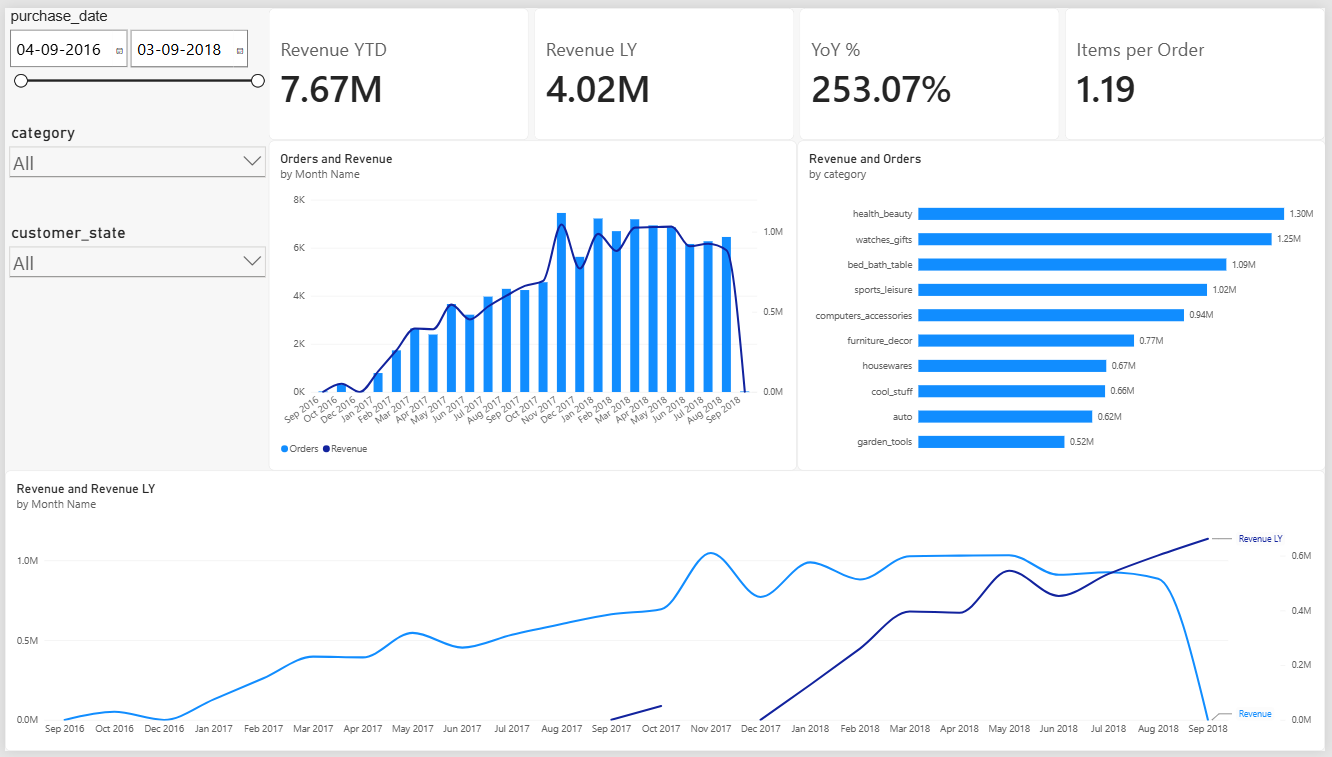

Layout of this report page (visuals, bound fields, positions):
{"tool":"powerbi","page":{"name":"Sales & Revenue","canvas":[1920,1080],"ordinal":1},"visuals":[{"type":"lineChart","fields":{"Category":["DimDate.Month Name"],"Y":["DimDate.Revenue"],"Y2":["DimDate.Revenue LY"]},"box":[0,672,1920,408],"z":0},{"type":"barChart","fields":{"Category":["public bi_fact_sales.category"],"Y":["DimDate.Revenue"]},"box":[1152,192,768,480],"z":1000},{"type":"lineClusteredColumnComboChart","fields":{"Category":["DimDate.Month Name"],"Y":["DimDate.Orders"],"Y2":["DimDate.Revenue"]},"box":[384,192,768,480],"z":2000},{"type":"slicer","fields":{"Values":["public bi_fact_sales.purchase_date"]},"box":[0,0,384,192],"z":3000},{"type":"slicer","fields":{"Values":["public bi_fact_sales.category"]},"box":[0,168,384,192],"z":4000},{"type":"slicer","fields":{"Values":["public bi_fact_sales.customer_state"]},"box":[0,312,384,192],"z":5000},{"type":"cardVisual","fields":{"Data":["DimDate.Revenue YTD","DimDate.Revenue LY","DimDate.YoY %","DimDate.Items per Order"]},"box":[384,0,1536,192],"z":6000}]}

Visuals, with their boxes in screenshot pixels (x1, y1, x2, y2), scaled from the page's 1920x1080 canvas onto the 1332x757 screenshot:
lineChart - DimDate.Month Name x DimDate.Revenue: bbox=[0, 471, 1331, 756]
barChart - public bi_fact_sales.category x DimDate.Revenue: bbox=[799, 135, 1331, 471]
lineClusteredColumnComboChart - DimDate.Month Name x DimDate.Orders: bbox=[266, 135, 799, 471]
slicer - public bi_fact_sales.purchase_date: bbox=[0, 0, 266, 135]
slicer - public bi_fact_sales.category: bbox=[0, 118, 266, 252]
slicer - public bi_fact_sales.customer_state: bbox=[0, 219, 266, 353]
cardVisual - DimDate.Revenue YTD x DimDate.Revenue LY: bbox=[266, 0, 1331, 135]
